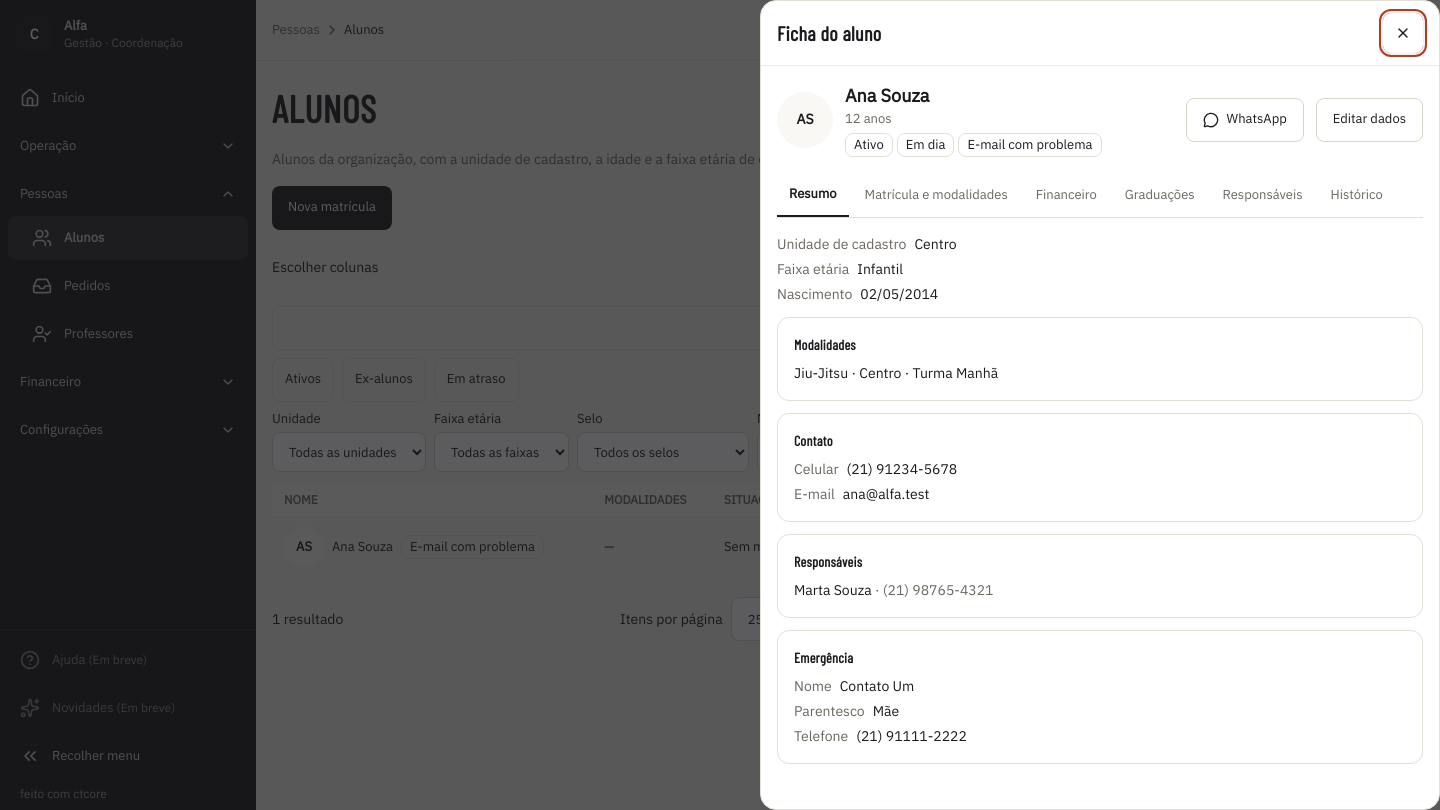
Test case: ficha do aluno (RF-ALU-03) › CA33: a aba Matrícula mostra a modalidade com plano, vencimento e ações; Encerrar habilitado
Expected: the text "Marta Souza" is shown, [794,581,872,599]
Click the tab "Matrícula e modalidades": coordinates (936, 195) [853,173,1020,217]
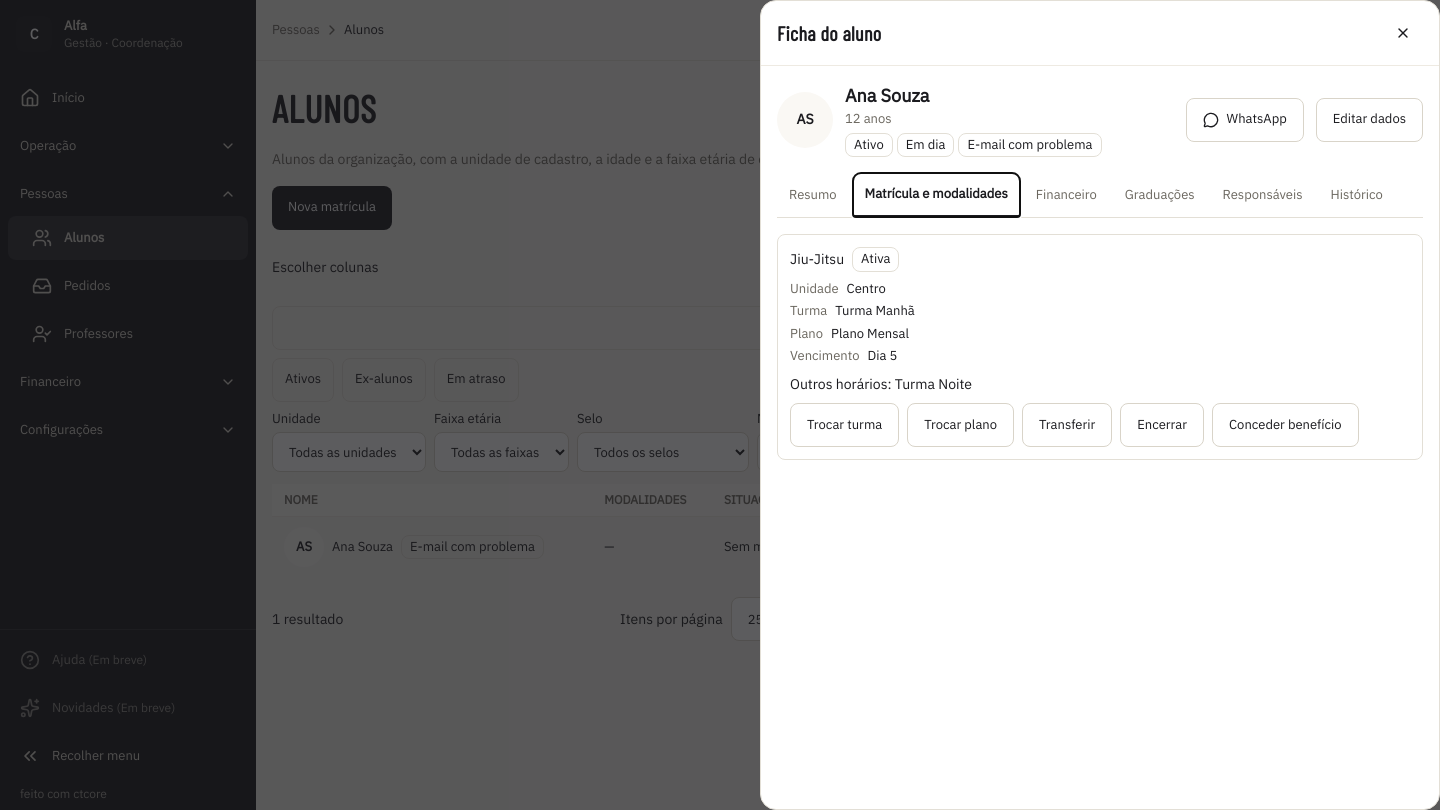
Now the text "Plano Mensal" is shown, box [831,325,909,343]
Now the text "Dia 5" is shown, box [868,347,897,366]
Now the text "Outros horários: Turma Noite" is shown, box [790,375,972,393]
